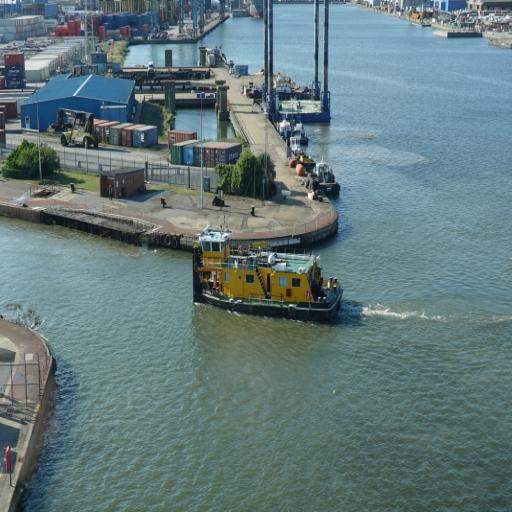tugboat: (191, 215, 347, 333)
